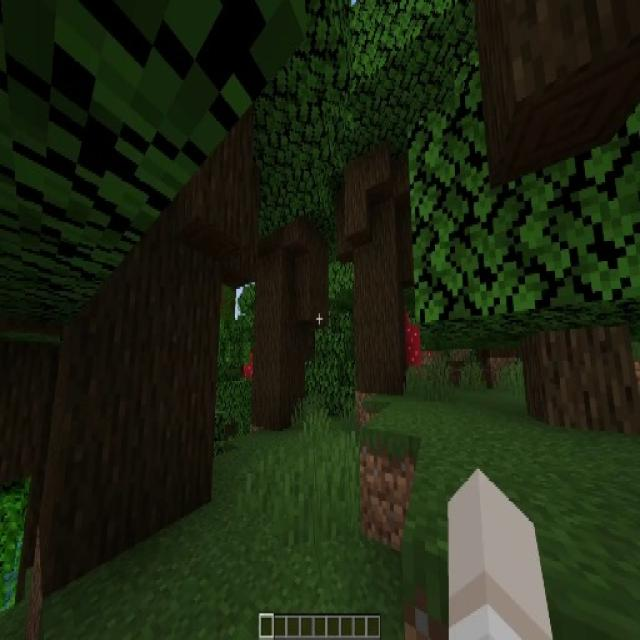dark_oak: (228, 54, 350, 430), (328, 8, 438, 392)
dark_oak_log: (43, 69, 243, 560), (343, 145, 414, 396), (250, 206, 325, 422)
oak: (405, 32, 640, 438)
oak_log: (520, 299, 639, 435)
